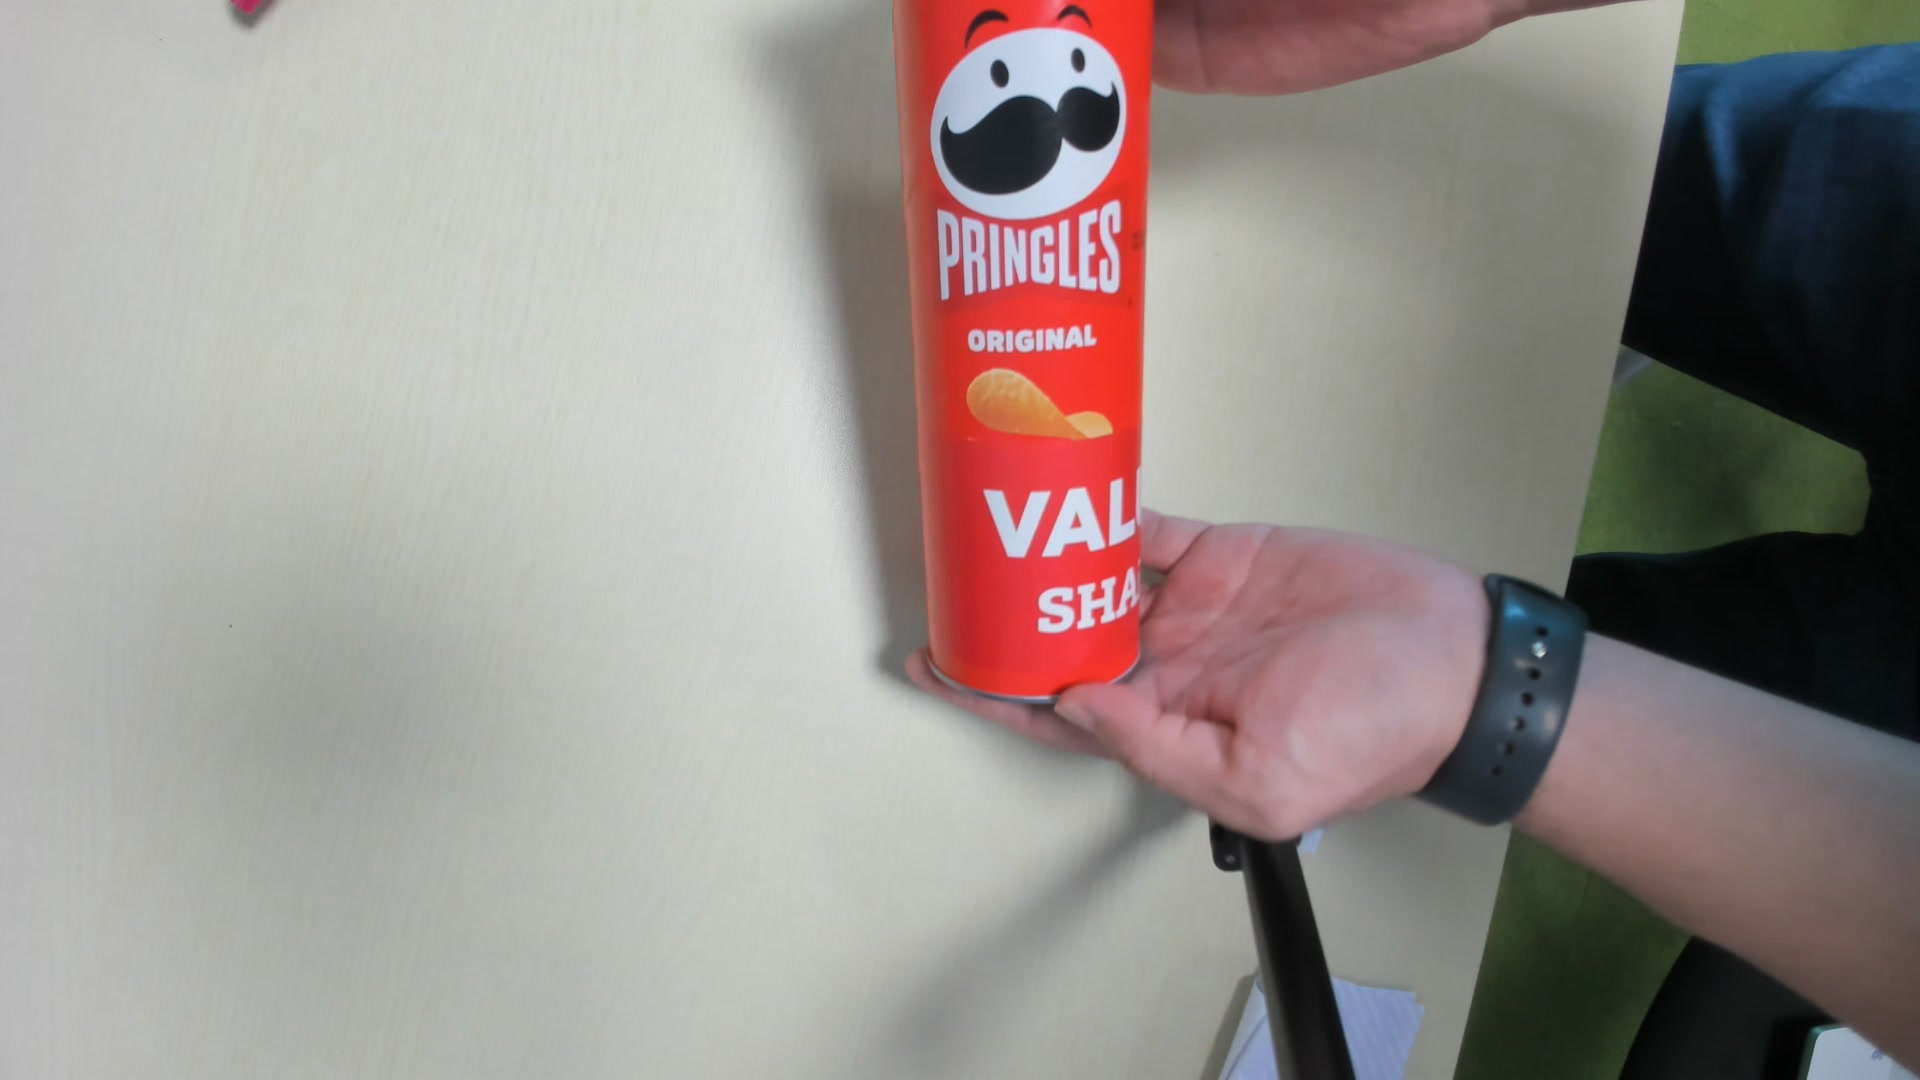PotatoChipsKeropok_100-199g_NonHalal_NonHealthy: (887, 1, 1153, 699)
